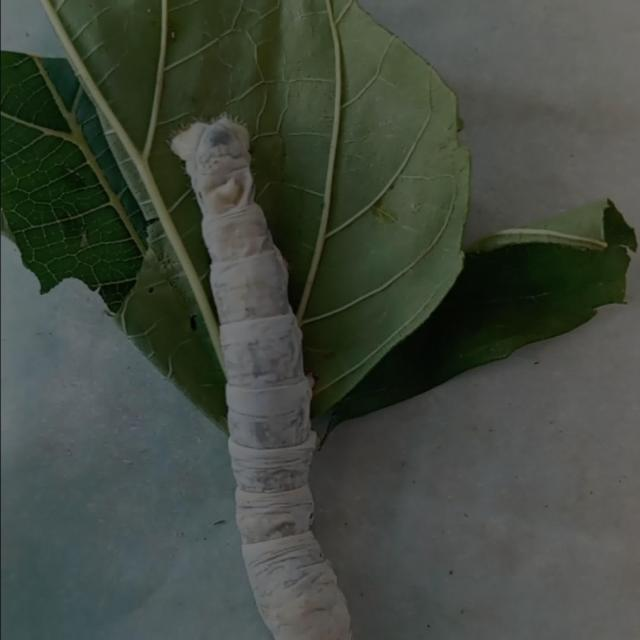Grasserie: (140, 82, 434, 640)
